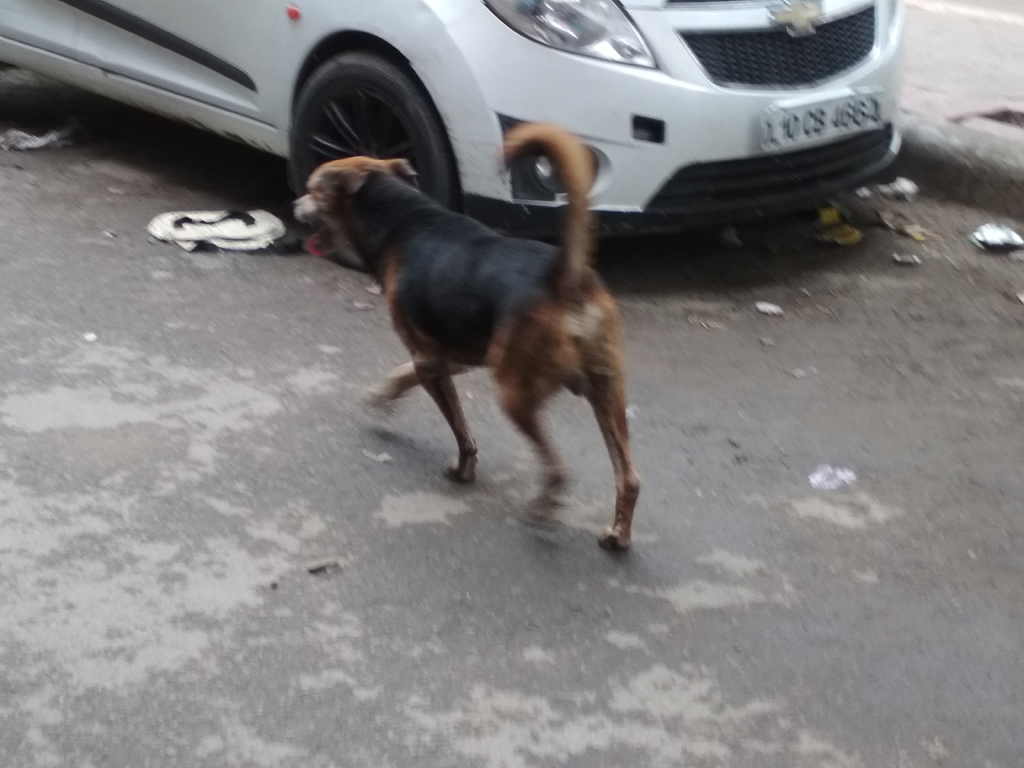dog: (292, 122, 640, 550)
